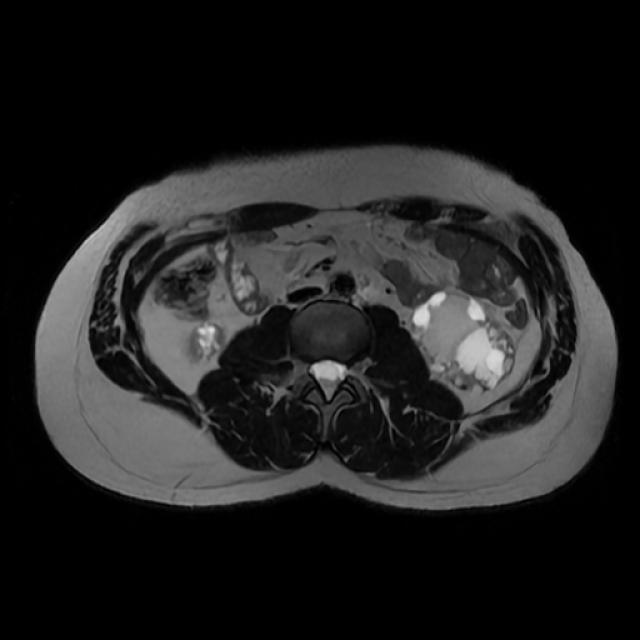sag: (185, 321, 226, 364)
sol: (409, 289, 518, 394)
